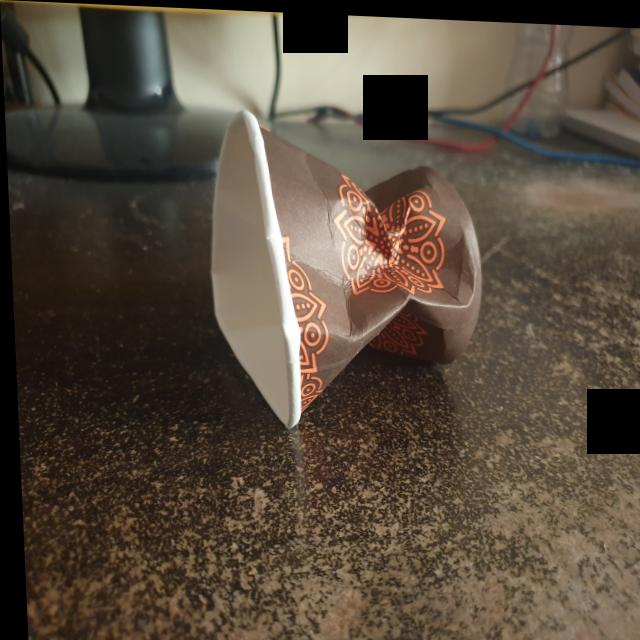cups: (198, 101, 488, 435)
